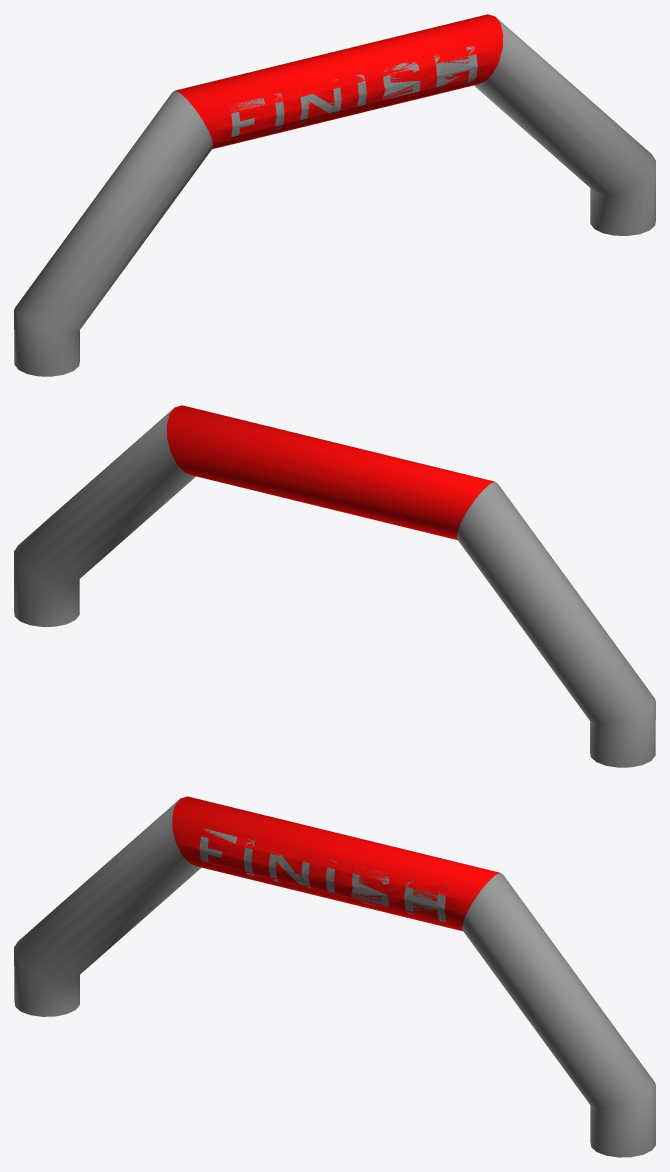
Rendered from BoardShapeModel.FBX.
The picture shows the model from 3 angles, top to bottom: view 1: azimuth 30°, elevation 25°; view 2: azimuth 150°, elevation 25°; view 3: azimuth 330°, elevation 25°; orthographic projection.
Visible parts, largest first — view 1: Loft001; view 2: Loft001; view 3: Loft001.
Part boxes in pixels (x1=…): Loft001: x1=14, y1=14, x2=655, y2=376; Loft001: x1=14, y1=405, x2=655, y2=767; Loft001: x1=14, y1=796, x2=655, y2=1157.
Size of the model in its own units: 334 by 119 by 30.17.
